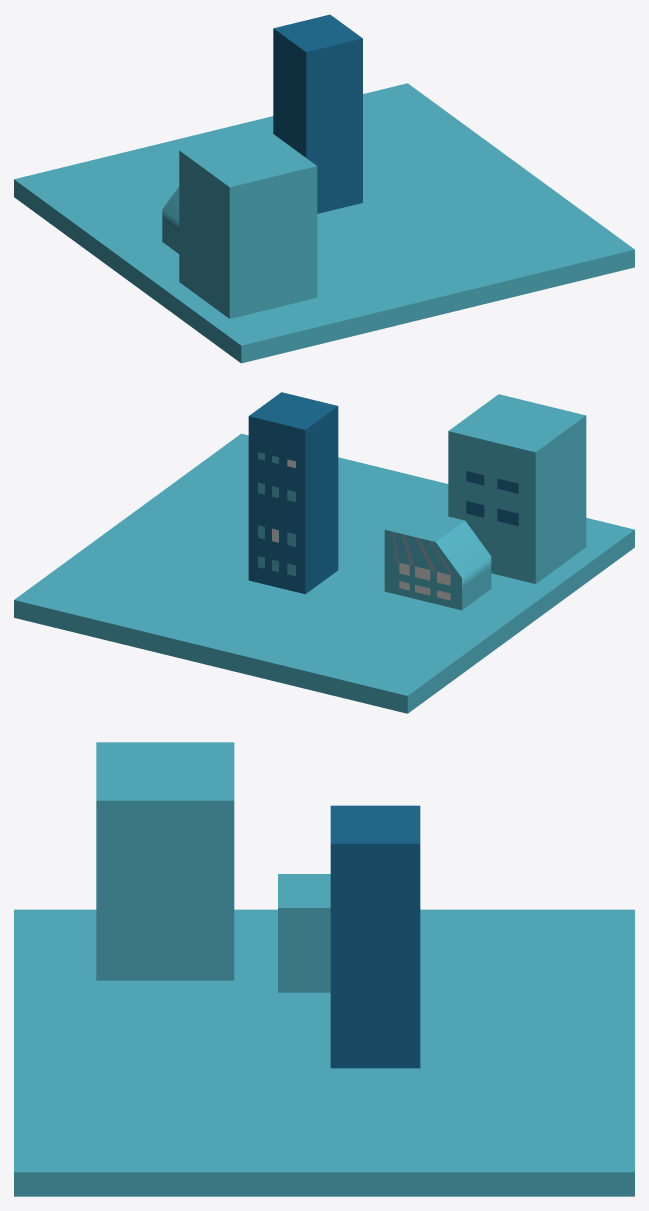
File: factory_building-9.gltf
3 renders of one model, top to bottom at view 1: azimuth 30°, elevation 25°; view 2: azimuth 150°, elevation 25°; view 3: azimuth 270°, elevation 25°, orthographic. The views are drawn at different scales.
Visible parts, largest first — view 1: pCube13, pCube40, pCube34, pCube29; view 2: pCube13, pCube40, pCube34, pCube29; view 3: pCube13, pCube40, pCube34, pCube29.
Boxes of the visible parts, x1,y1,x2,y2 form: pCube13: [14, 83, 634, 363]; pCube40: [179, 129, 317, 318]; pCube34: [273, 14, 362, 213]; pCube29: [162, 186, 179, 253]; pCube13: [14, 433, 634, 713]; pCube40: [448, 394, 586, 583]; pCube34: [248, 392, 338, 594]; pCube29: [384, 508, 491, 610]; pCube13: [14, 909, 634, 1196]; pCube40: [96, 742, 234, 980]; pCube34: [330, 805, 420, 1068]; pCube29: [278, 874, 330, 992].
Bounding box in the file's own units: 1.47 × 0.7598 × 1.47.
